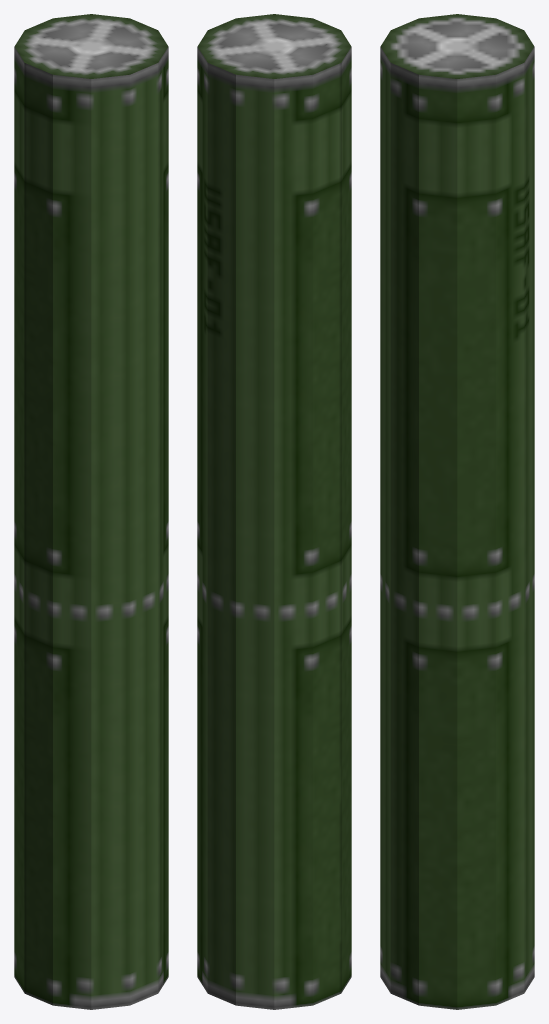
Rendered from mp_f_15_kerosene.obj.
The picture shows the model from 3 angles, left to right: view 1: azimuth 30°, elevation 25°; view 2: azimuth 150°, elevation 25°; view 3: azimuth 270°, elevation 25°; orthographic projection.
Parts seen in each view (by area): view 1: Cylinder; view 2: Cylinder; view 3: Cylinder.
Part boxes in pixels (bbox=[...]): Cylinder: bbox=[14, 14, 168, 1009]; Cylinder: bbox=[197, 14, 351, 1009]; Cylinder: bbox=[380, 14, 534, 1009].
Size of the model in its own units: 1.5 by 10 by 1.5.
